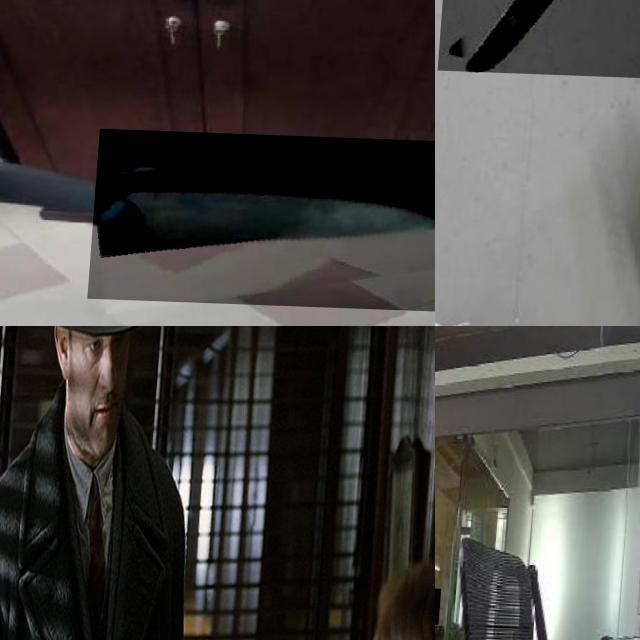-: (93, 127, 435, 308), (443, 0, 640, 115), (435, 585, 457, 622)
